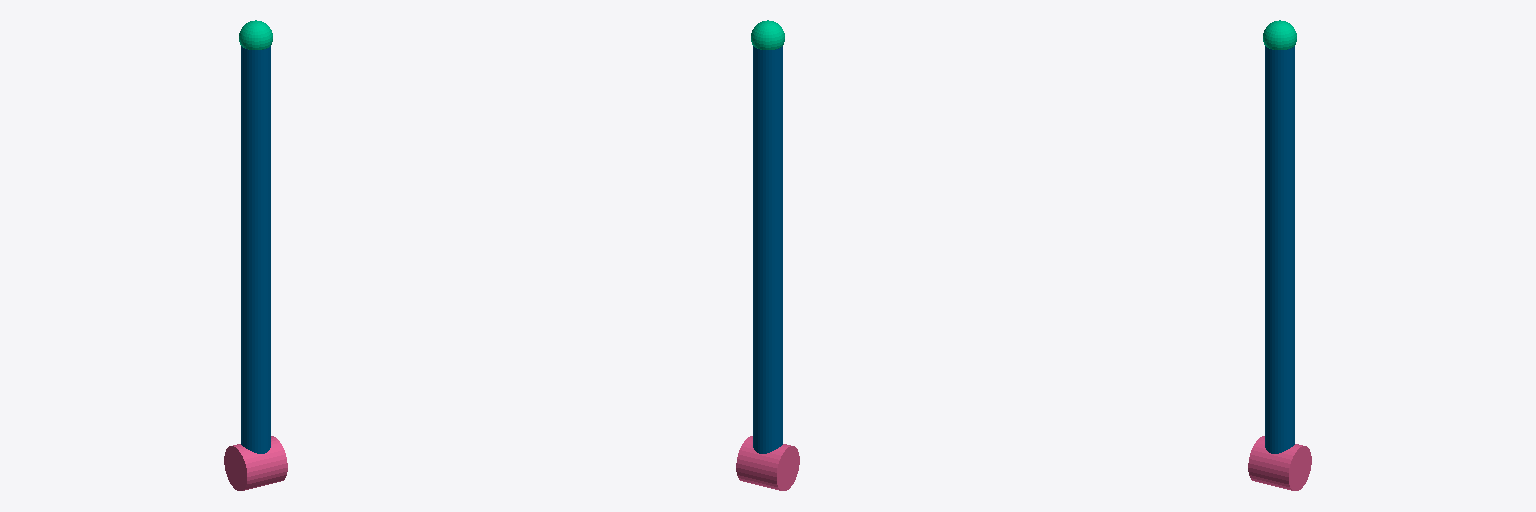
URDF robot description (Chaser):
<?xml version="1.0" ?>
<robot name="Chaser">
  <material name="Grey">
    <color rgba="0.2 0.2 0.2 1.0"/>
  </material>
  <material name="Orange">
    <color rgba="1.0 0.423529411765 0.0392156862745 1.0"/>
  </material>
  <material name="Blue">
  <color rgba="0.5 0.7 1.0 1.0"/>      
  </material>
  <material name="Red">
    <color rgba="1 0 0 1.0"/>      
  </material>
  <material name="Green">
    <color rgba="0 1 0 1.0"/>      
  </material>

  <link name='base_link'>
      <visual>
      <origin rpy="0 1.5708 0" xyz="0 0 0"/>
      <geometry>
        <cylinder radius="0.075" length="0.15"/>
      </geometry>
      <material name="magenta">
        <color rgba="0.9 0.4 0.6 1"/>      
      </material>
    </visual>

    <collision>
      <origin rpy="0 1.5708 0" xyz="0 0 0"/>
      <geometry>
        <cylinder radius="0.075" length="0.15"/>
      </geometry>
    </collision>
  </link>

  <joint name="Joint_1" type="continuous">
    <parent link="base_link"/>
    <child link="Link_1"/>
    <origin rpy="0 0 0" xyz="0 0 0.0"/>
    <axis xyz="1 0 0"/>
  </joint>

  <link name="Link_1">
    <inertial>
      <origin rpy="0 0 0" xyz="0 0 0.0"/>
      <mass value="10"/>
      <inertia ixx="0.1" ixy="0" ixz="0" iyy="0.1" iyz="0" izz="0.1"/>
    </inertial>
    <visual>
      <origin rpy="0 0 0" xyz="0 0 0.375"/>
      <geometry>
        <cylinder radius="0.05" length="0.75"/>
      </geometry>
      <material name="green">
        <color rgba="0.0 0.4 0.6 0"/>      
      </material>
    </visual>

    <collision>
      <origin rpy="0 0 0" xyz="0 0 0.375"/>
      <geometry>
        <cylinder radius="0.05" length="0.75"/>
      </geometry>
    </collision>
  </link>



  <joint name="Joint_2" type="continuous">
    <parent link="Link_1"/>
    <child link="Link_2"/>
    <origin rpy="0 0 0" xyz="0 0 0.75"/>
    <axis xyz="1 0 0"/>
  </joint>

<!--     <link name='Link_1_2_connector'>
      <visual>
      <origin rpy="0 1.5708 0" xyz="0 0 0"/>
      <geometry>
        <cylinder radius="0.075" length="0.15"/>
      </geometry>
      <material name="Orange"/>
    </visual>

    <collision>
      <origin rpy="0 1.5708 0" xyz="0 0 0"/>
      <geometry>
        <cylinder radius="0.075" length="0.15"/>
      </geometry>
    </collision>
  </link>

  <joint name="Joint_3" type="continuous">
    <parent link="Link_1_2_connector"/>
    <child link="Link_2"/>
    <origin rpy="0 0 0" xyz="0 0 0.75"/>
    <axis xyz="1 0 0"/>
  </joint> -->

  <link name="Link_2">
    <inertial>
      <origin rpy="0 0 0" xyz="0 0 0.375"/>
      <mass value="10"/>
      <inertia ixx="0.1" ixy="0" ixz="0" iyy="0.1" iyz="0" izz="0.1"/>
    </inertial>

    <visual>
      <origin rpy="0 0 0" xyz="0 0 0.375"/>
      <geometry>
        <cylinder radius="0.05" length="0.75"/>
      </geometry>
      <material name="green">
        <color rgba="0.0 0.4 0.6 1"/>      
      </material>
    </visual>

    <collision>
      <origin rpy="0 0 0" xyz="0 0 0.375"/>
      <geometry>
        <cylinder radius="0.05" length="0.75"/>
      </geometry>
    </collision>
  </link>


  <joint name="Joint_ee" type="fixed">
    <parent link="Link_2"/>
    <child link="Link_ee"/>
    <origin rpy="0 0 0" xyz="0 0 0.75"/>
    <axis xyz="1 0 0"/>
  </joint>

  <link name="Link_ee">
    <visual>
      <origin rpy="0 0 0" xyz="0 0 0.015"/>
      <geometry>
        <sphere radius="0.055"/>
      </geometry>
      <material name="other">
        <color rgba="0.0 0.8 0.6 1"/>      
      </material>
    </visual>
  </link>

</robot>

--- Render facts (derived) ---
3 views of the same robot in one strip: view 1: azimuth 30°, elevation 25°; view 2: azimuth 150°, elevation 25°; view 3: azimuth 330°, elevation 25° (orthographic).
Model Chaser with 4 links and 3 joints (2 continuous, 1 fixed), rooted at base_link, posed every joint at zero.
Visible links, largest first — view 1: Link_2, Link_1, base_link, Link_ee; view 2: Link_2, Link_1, base_link, Link_ee; view 3: Link_2, Link_1, base_link, Link_ee.
Boxes of the visible links, box(x1,y1,x2,y2) form: Link_2: box(241, 46, 270, 258); Link_1: box(241, 255, 270, 453); base_link: box(224, 436, 287, 490); Link_ee: box(239, 20, 272, 49); Link_2: box(753, 46, 782, 258); Link_1: box(753, 255, 782, 453); base_link: box(736, 436, 799, 490); Link_ee: box(751, 20, 784, 49); Link_2: box(1265, 46, 1294, 258); Link_1: box(1265, 255, 1294, 453); base_link: box(1248, 436, 1311, 490); Link_ee: box(1263, 20, 1296, 49).
Size in the robot's own frame: 0.15 by 0.15 by 1.65 metres.
Geometry: primitives only (box / cylinder / sphere), no mesh files.